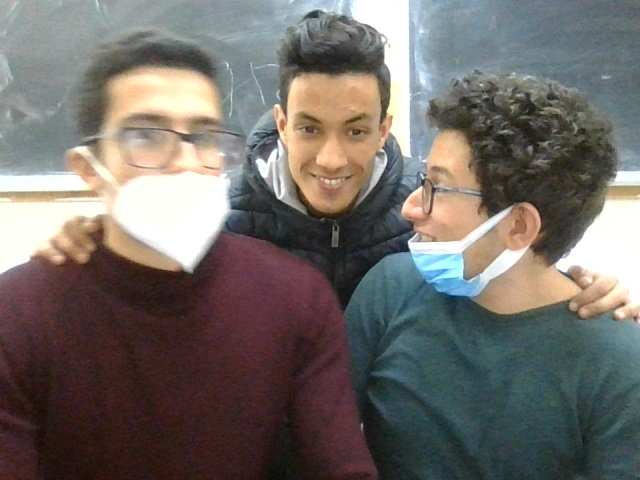mask_weared_incorrect: (404, 70, 603, 292)
without_mask: (262, 3, 400, 215)
